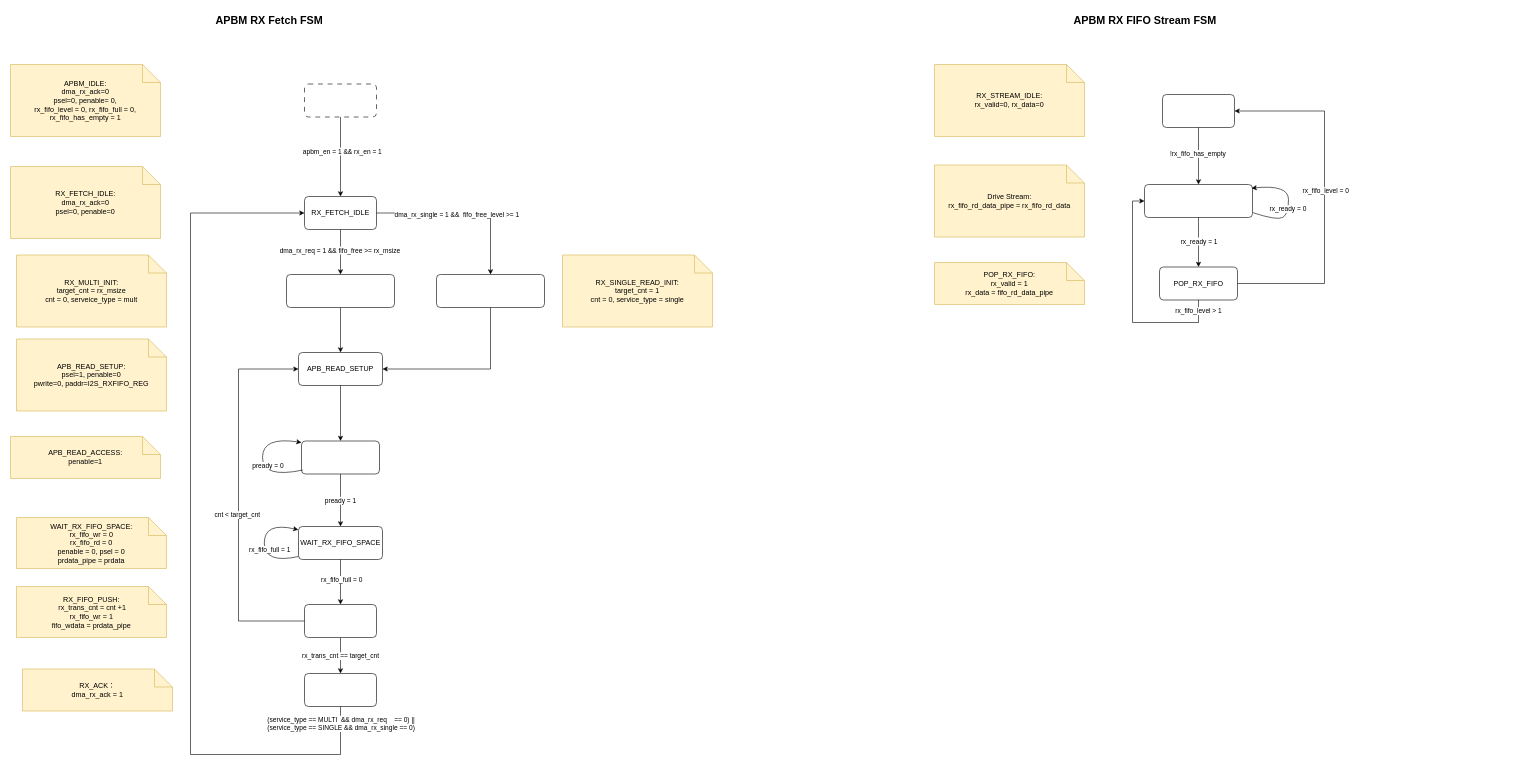
Image size: 1539x770. Some labels were removed from this diagram. The centre of each missing label's shape, as x and y in pixels:
"APB_READ_ACCESS" goes at point (340, 457).
"APBM_IDLE" goes at point (340, 100).
"Drive Stream" goes at point (1198, 201).
"RX_ACK" goes at point (340, 689).
"RX_FIFO_PUSH" goes at point (340, 621).
"RX_MULTI_INIT" goes at point (340, 291).
"RX_SINGLE_READ_INIT" goes at point (490, 291).
"RX_STREAM_IDLE" goes at point (1198, 111).
